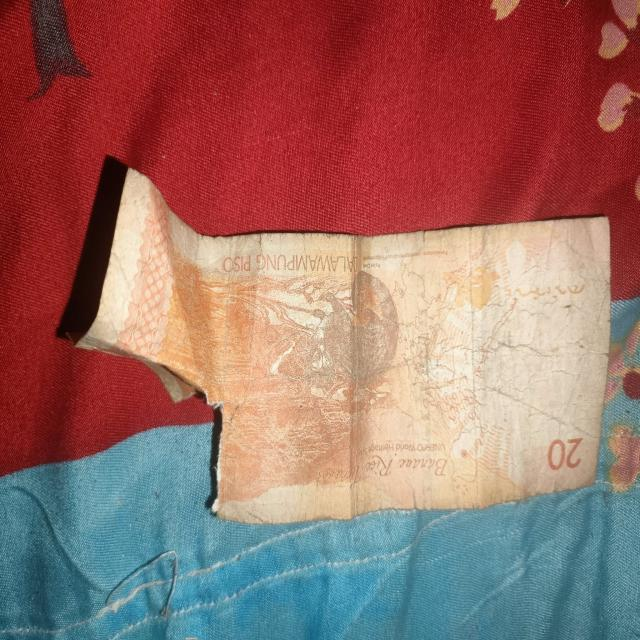broken: (72, 163, 617, 529)
torn: (74, 328, 260, 542)
